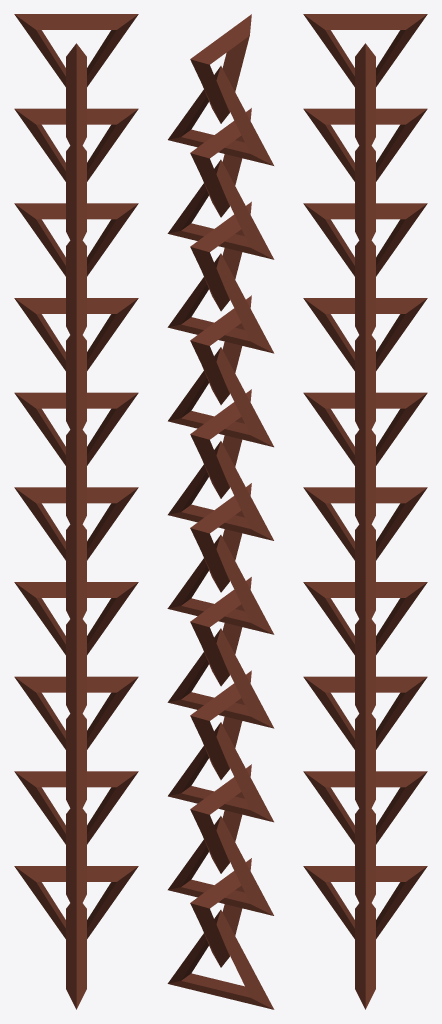
Rendered from Chain_2_Red.fbx.
3 renders of one model, left to right at view 1: azimuth 90°, elevation 25°; view 2: azimuth 150°, elevation 25°; view 3: azimuth 270°, elevation 25°, orthographic.
Visible parts, largest first — view 1: Chain_2_Red; view 2: Chain_2_Red; view 3: Chain_2_Red.
Part boxes in pixels (x1,y1,x2,y2): Chain_2_Red: [14, 14, 138, 1009]; Chain_2_Red: [167, 14, 274, 1009]; Chain_2_Red: [303, 14, 427, 1009].
Bounding box in the file's own units: 19.95 × 171 × 19.95.
